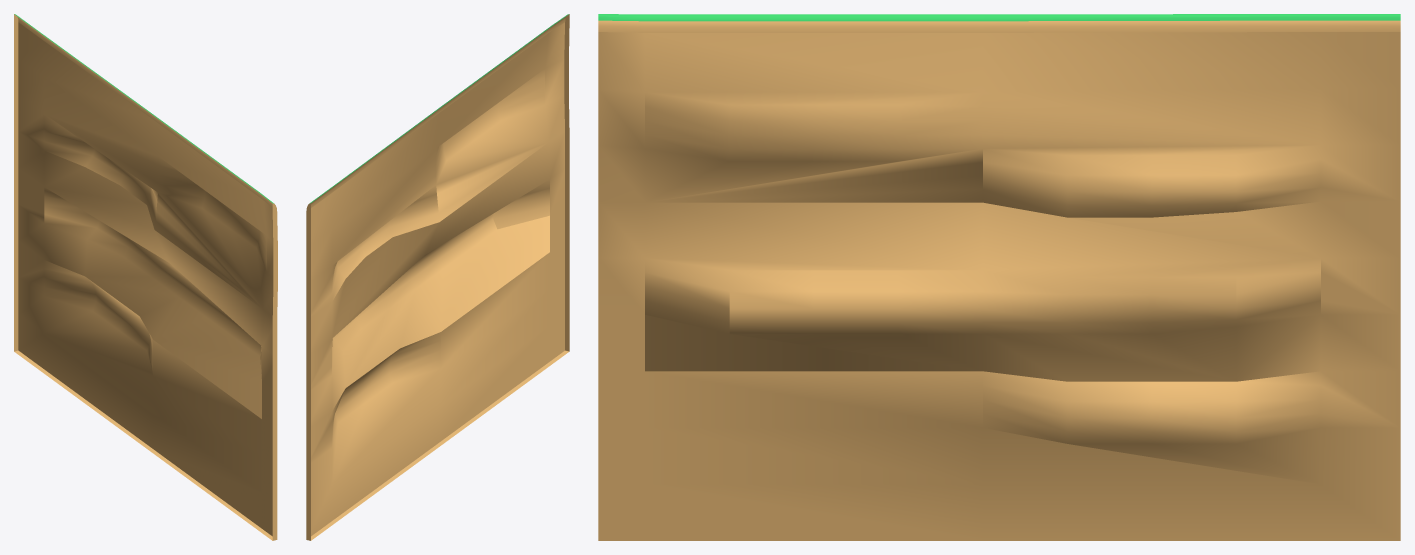
File: NOVA FASE BASE Parede2.fbx
3 views of the same model, side by side, from view 1: azimuth 30°, elevation 25°; view 2: azimuth 150°, elevation 25°; view 3: azimuth 270°, elevation 25° (orthographic). The views are drawn at different scales.
Visible parts, largest first — view 1: Parede1.001; view 2: Parede1.001; view 3: Parede1.001.
Part boxes in pixels (x1,y1,x2,y2): Parede1.001: (14,14,277,540); Parede1.001: (306,14,569,540); Parede1.001: (598,14,1400,540).
Bounding box in the file's own units: 0.3783 × 3.6 × 5.
